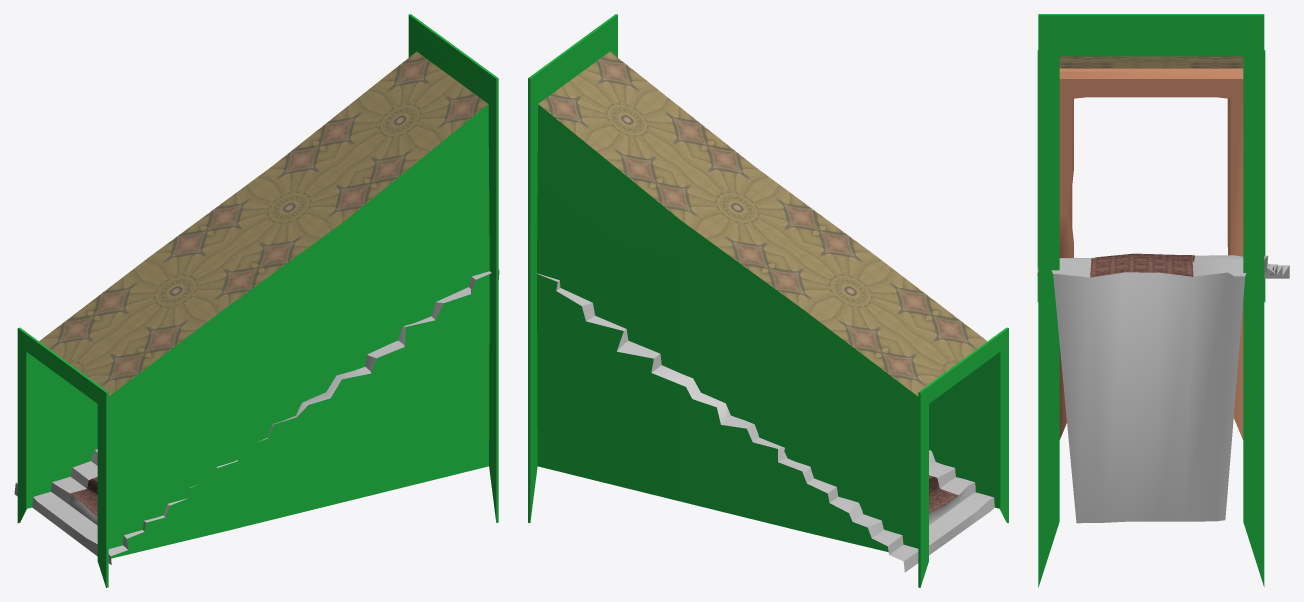
The model's file is HallWay Stairs 02.fbx.
3 renders of one model, left to right at view 1: azimuth 30°, elevation 25°; view 2: azimuth 150°, elevation 25°; view 3: azimuth 270°, elevation 25°, orthographic. The views are drawn at different scales.
Visible parts, largest first — view 1: Cube_001, Plane; view 2: Cube_001, Plane; view 3: Plane, Cube_001.
Boxes of the visible parts, box(x1,y1,x2,y2) form: Cube_001: box(17, 14, 498, 587); Plane: box(14, 269, 499, 564); Cube_001: box(528, 14, 1008, 587); Plane: box(537, 273, 994, 572); Plane: box(1037, 253, 1289, 523); Cube_001: box(1037, 14, 1265, 587).
Bounding box in the file's own units: 986 × 1045 × 418.
